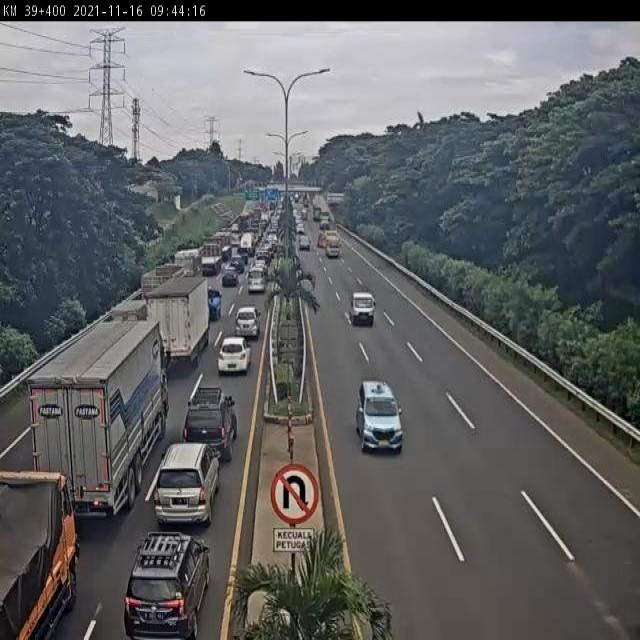Car: (124, 531, 210, 639), (152, 441, 221, 526), (182, 386, 238, 463), (354, 382, 405, 455), (216, 335, 252, 376), (349, 291, 376, 327), (234, 306, 262, 340), (207, 288, 222, 321), (248, 273, 266, 294), (222, 268, 238, 287), (298, 236, 311, 250), (296, 223, 305, 235)
Truck: (31, 322, 168, 516), (0, 469, 78, 639), (146, 274, 211, 368)
